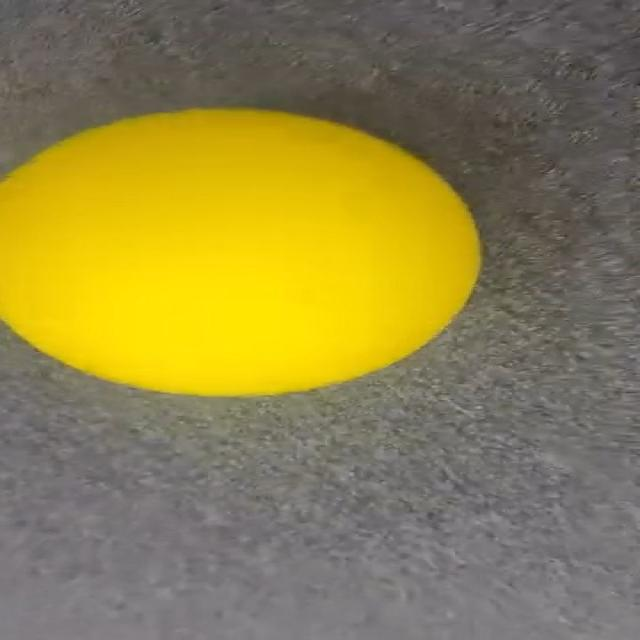Fuels: (0, 109, 476, 394)
